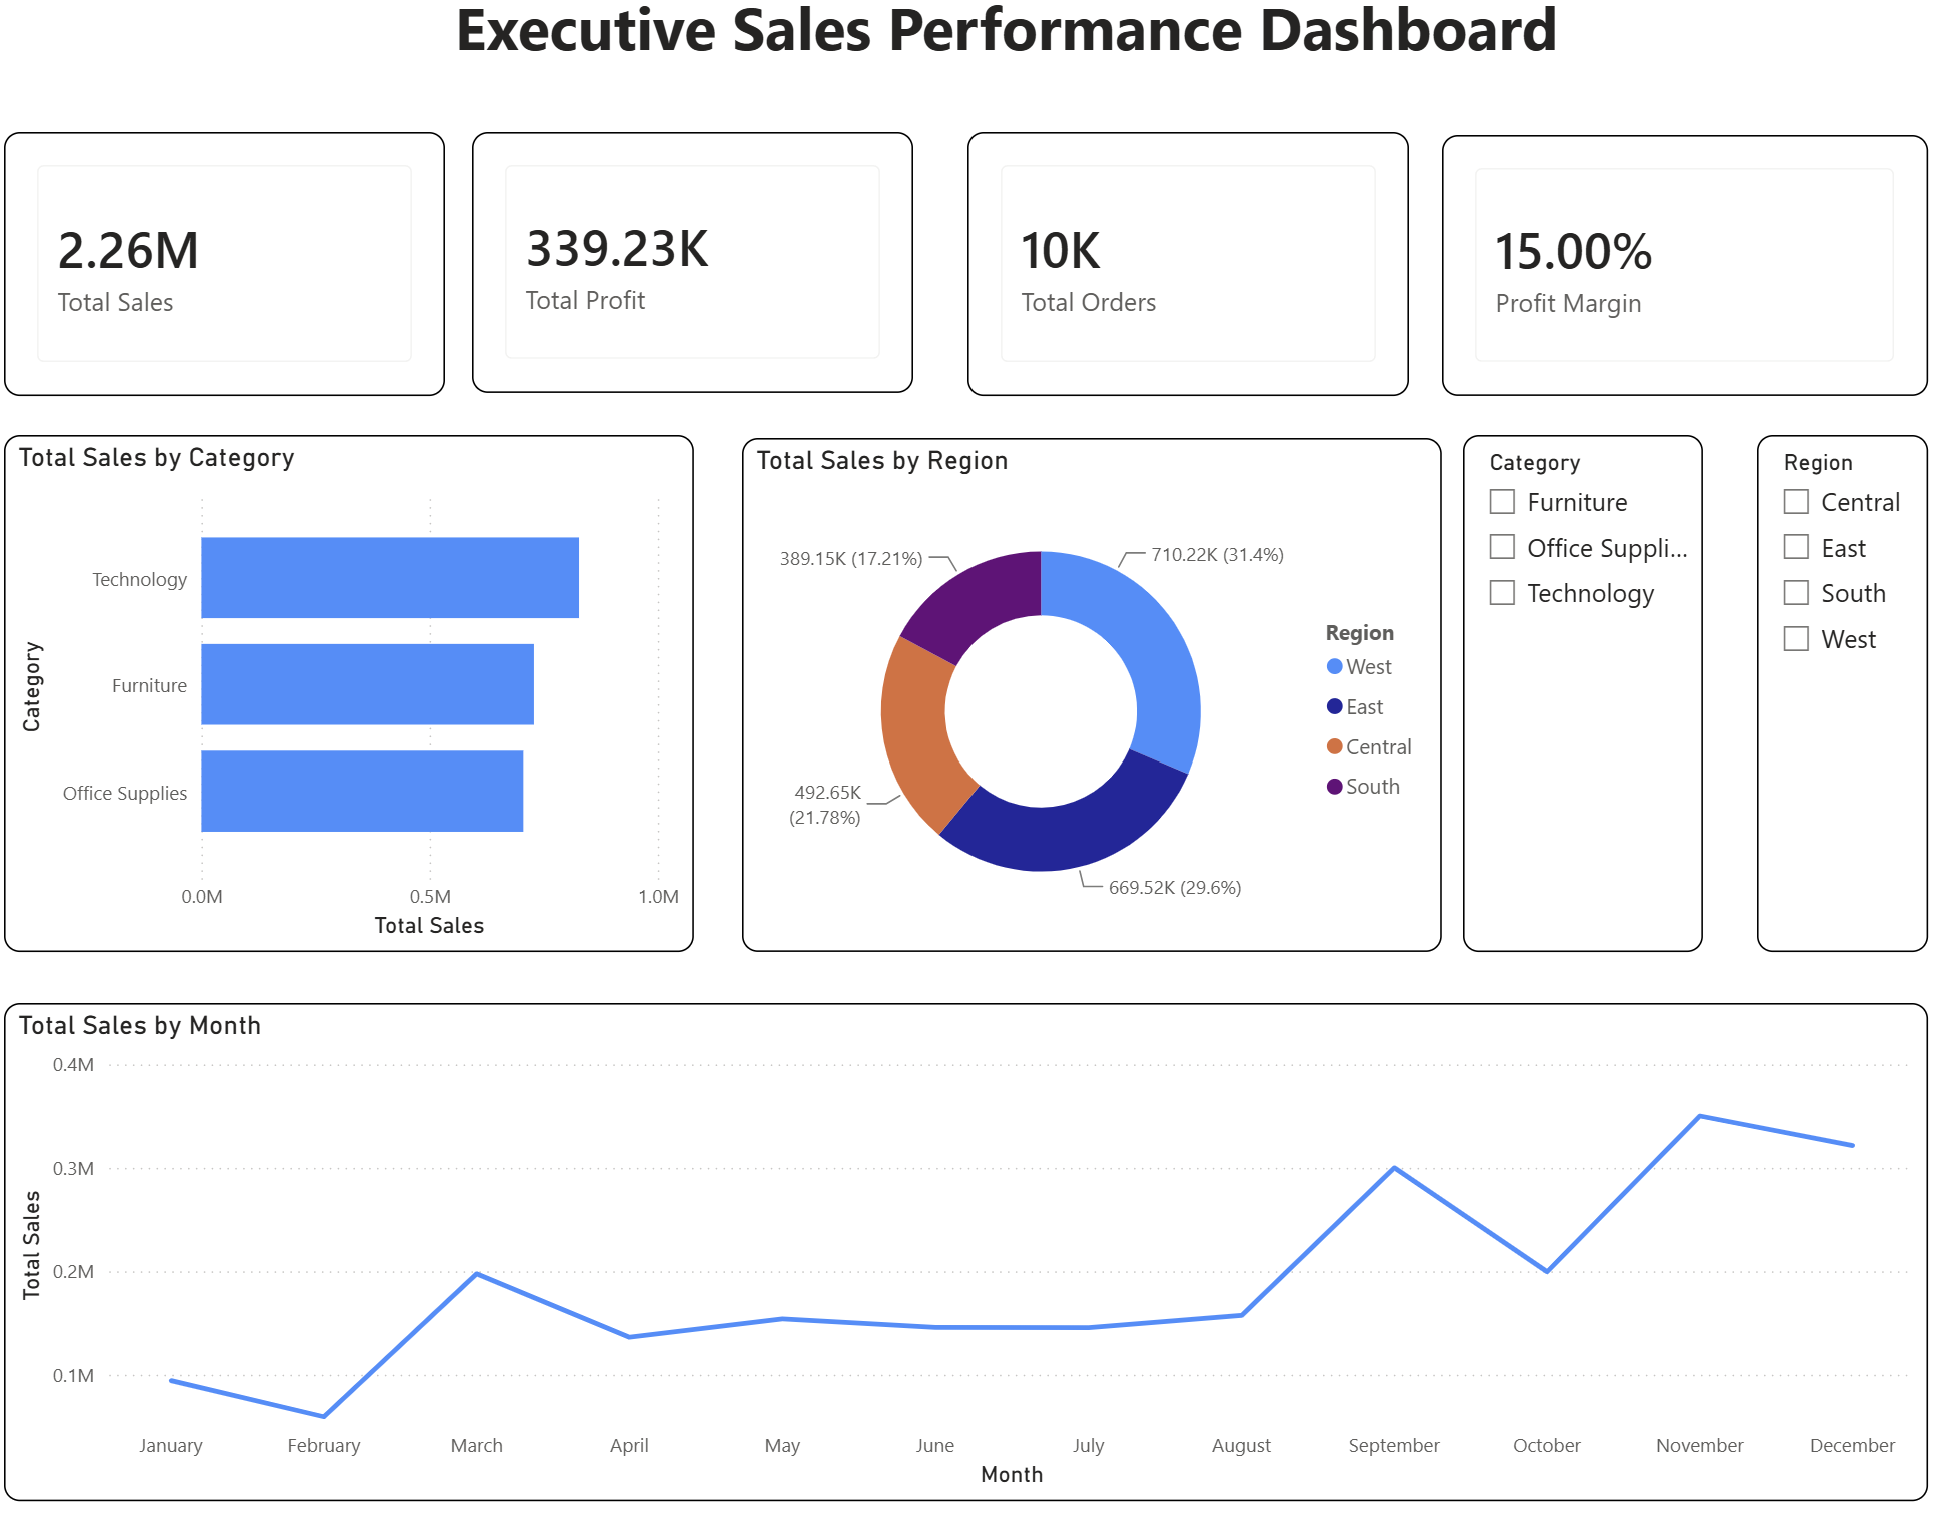

Layout of this report page (visuals, bound fields, positions):
{"tool":"powerbi","page":{"name":"Page 1","canvas":[1280,1000],"ordinal":0},"visuals":[{"type":"cardVisual","fields":{"Data":["train.Total Sales"]},"box":[43.8,114.3,280,167.6],"z":0},{"type":"cardVisual","fields":{"Data":["train.Total Profit"]},"box":[341,114.3,280,165.7],"z":1000},{"type":"cardVisual","fields":{"Data":["train.Total Orders"]},"box":[655.2,114.3,280,167.6],"z":2000},{"type":"cardVisual","fields":{"Data":["train.Profit Margin"]},"box":[956.2,116.2,308.6,165.7],"z":3000},{"type":"barChart","fields":{"Category":["train.Category"],"Y":["train.Total Sales"]},"box":[43.8,306.7,438.1,327.6],"z":4000},{"type":"donutChart","fields":{"Category":["train.Region"],"Y":["train.Total Sales"]},"box":[512.4,308.6,443.8,325.7],"z":5000},{"type":"slicer","fields":{"Values":["train.Category"]},"box":[969.5,306.7,152.4,327.6],"z":6000},{"type":"slicer","fields":{"Values":["train.Region"]},"box":[1156.2,306.7,108.6,327.6],"z":7000},{"type":"lineChart","fields":{"Category":["train.Order Date.Variation.Date Hierarchy.Month"],"Y":["train.Total Sales"]},"box":[43.8,666.7,1221,316.2],"z":8000},{"type":"textbox","box":[80,17.1,1200,70.5],"z":9000}]}

Visuals, with their boxes in screenshot pixels (x1, y1, x2, y2), scaled from the page's 1280x1000 canvas onto the 1938x1518 screenshot:
cardVisual - train.Total Sales: (66,174,490,428)
cardVisual - train.Total Profit: (516,174,940,425)
cardVisual - train.Total Orders: (992,174,1416,428)
cardVisual - train.Profit Margin: (1448,176,1915,428)
barChart - train.Category x train.Total Sales: (66,466,730,963)
donutChart - train.Region x train.Total Sales: (776,468,1448,963)
slicer - train.Category: (1468,466,1699,963)
slicer - train.Region: (1751,466,1915,963)
lineChart - train.Order Date.Variation.Date Hierarchy.Month x train.Total Sales: (66,1012,1915,1492)
textbox: (121,26,1937,133)
